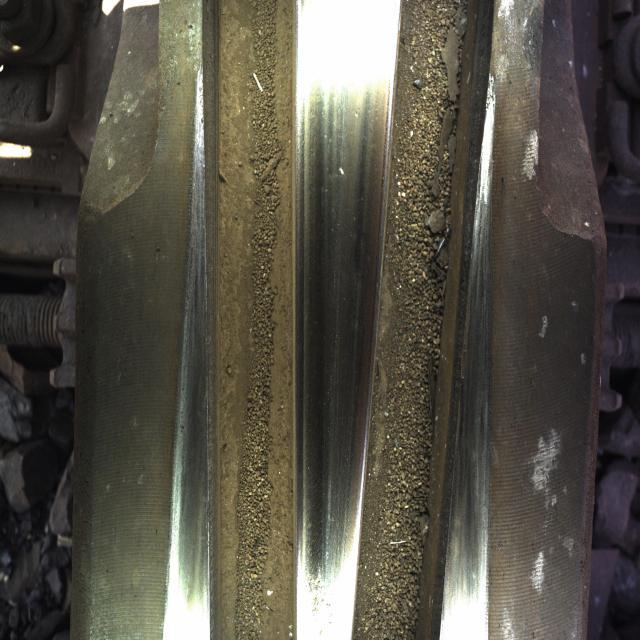break: (299, 40, 375, 554)
